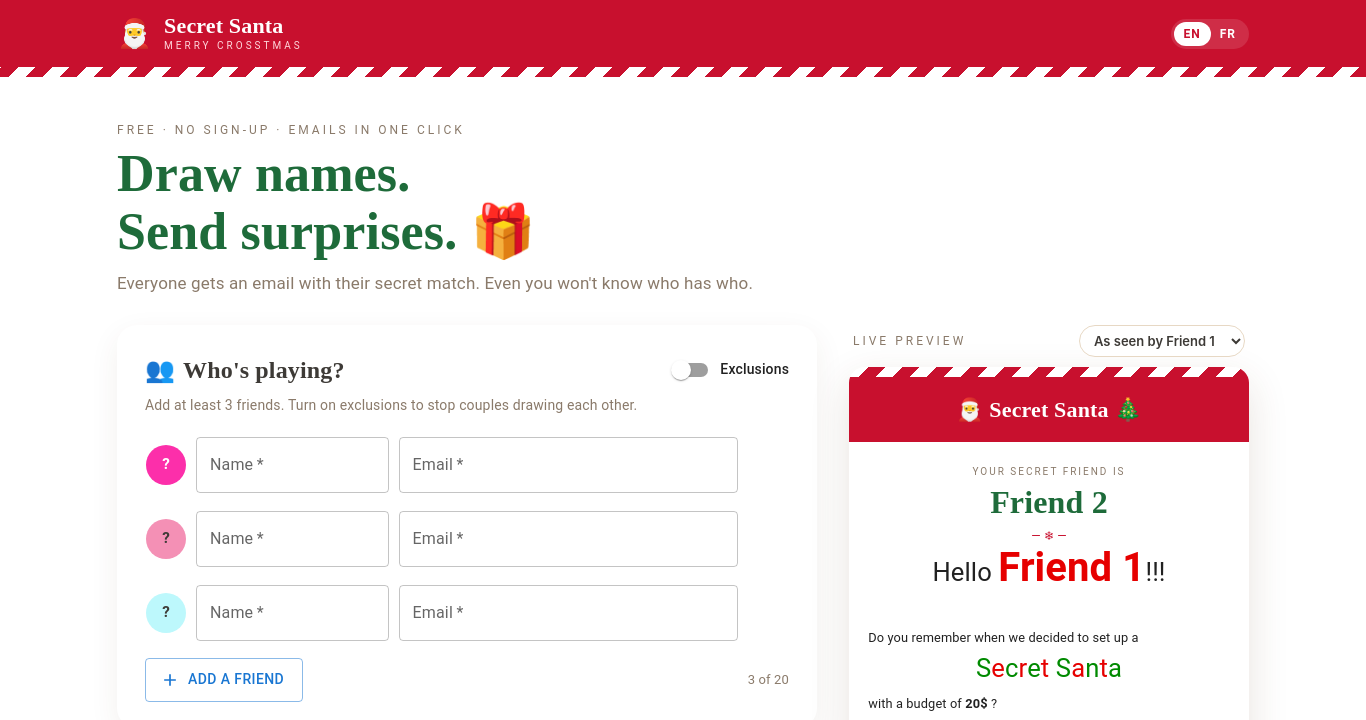
Test: adds a contact and shows exclusions
Click the button "Add a friend" at coordinates (224, 680), box [145,658,303,702]
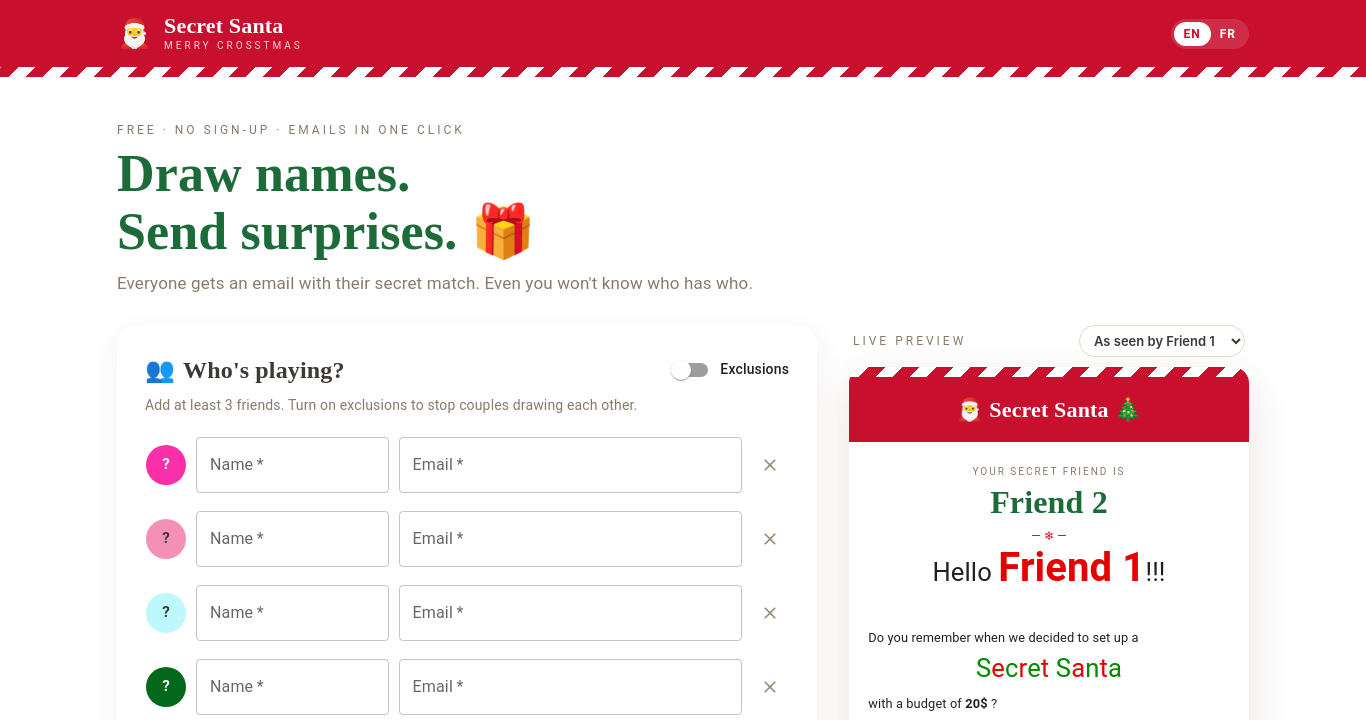
Expected: the number of fields labelled "Name *" is 4, [196,437,389,493]; [196,511,389,567]; [196,585,389,641]; [196,659,389,715]
Result: the number of buttons named "Delete" is 4 at [752,447,788,483]; [752,521,788,557]; [752,595,788,631]; [752,669,788,705]
Click the switch labelled "Exclusions" at coordinates (730, 370), box [671,360,789,380]
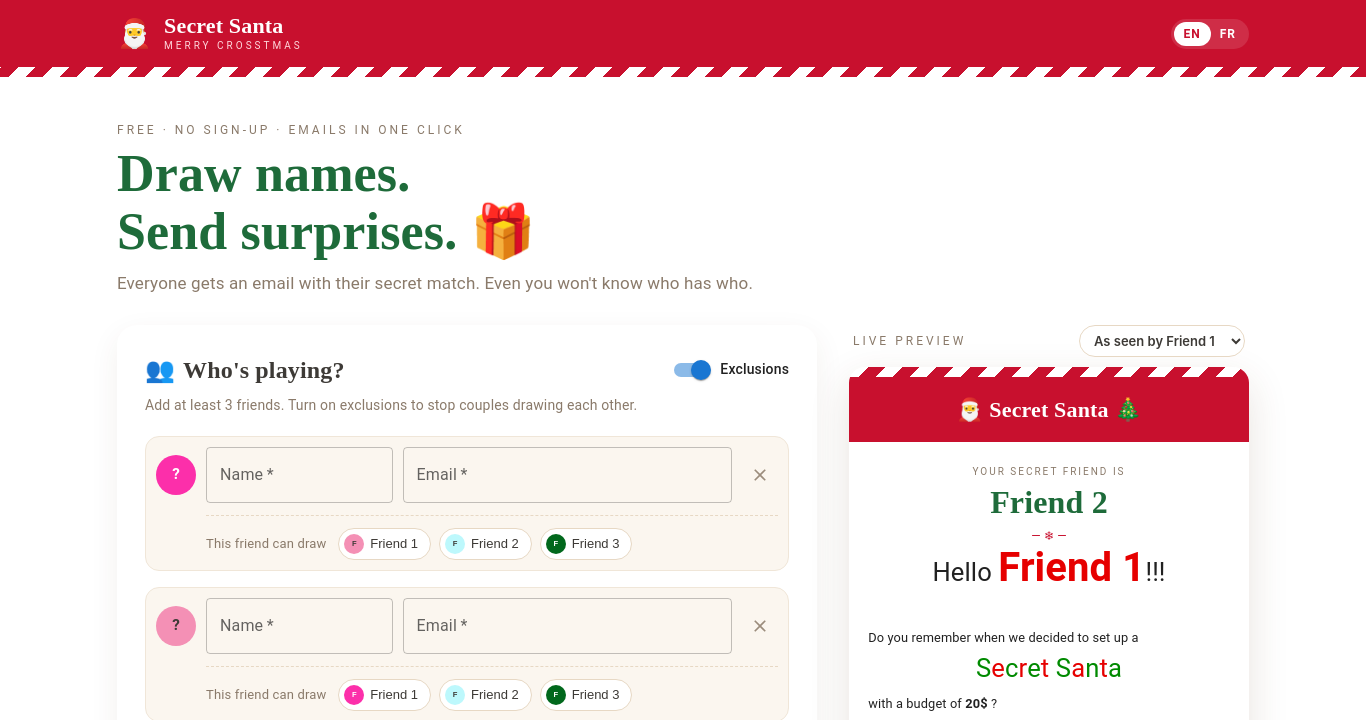
Result: the text "This friend can draw" is shown 4 times
